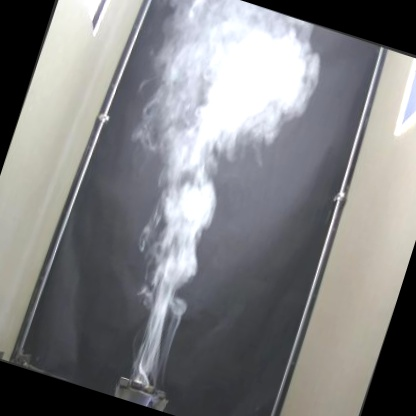smoke: (56, 0, 332, 391)
